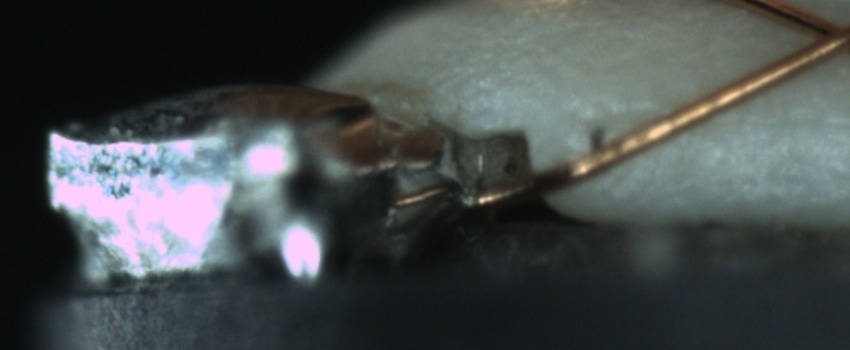CL: (783, 4, 849, 68)
DL: (686, 92, 848, 155)
